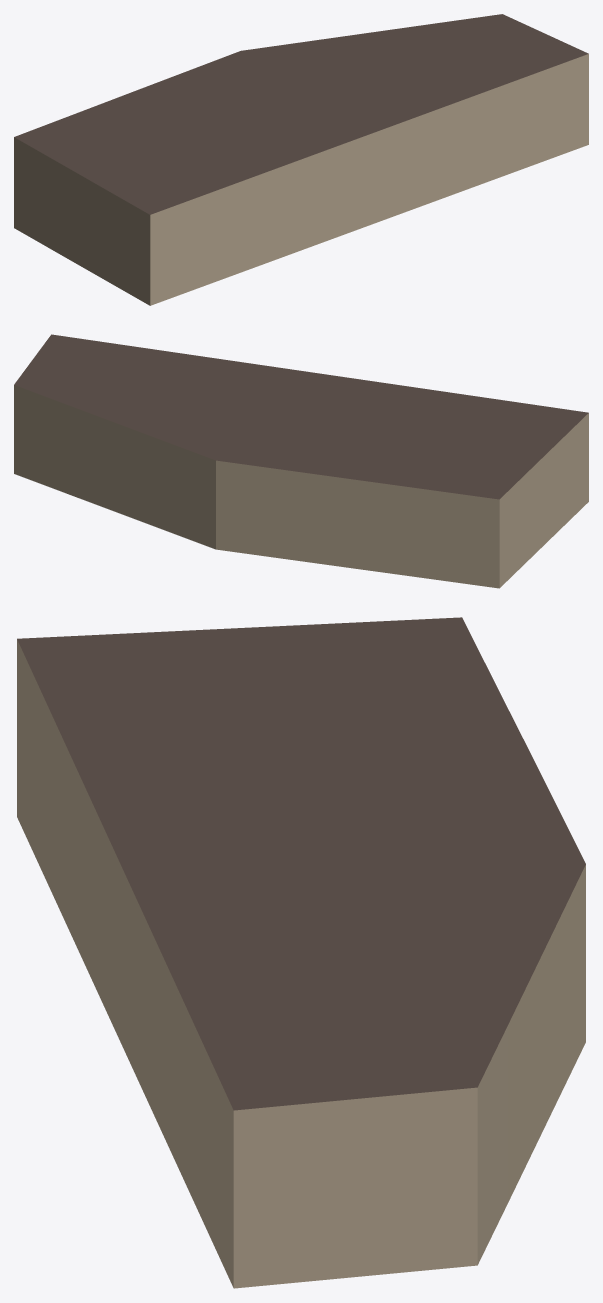
3 views of the same model, one above another, from view 1: azimuth 30°, elevation 25°; view 2: azimuth 150°, elevation 25°; view 3: azimuth 270°, elevation 25° (orthographic). The views are drawn at different scales.
Visible parts, largest first — view 1: HP-w490656159; view 2: HP-w490656159; view 3: HP-w490656159.
Part boxes in pixels (x1,y1,x2,y2): HP-w490656159: (14,14,588,305); HP-w490656159: (14,334,588,588); HP-w490656159: (17,617,585,1288).
Bounding box in the file's own units: 53.46 × 9 × 26.08.
